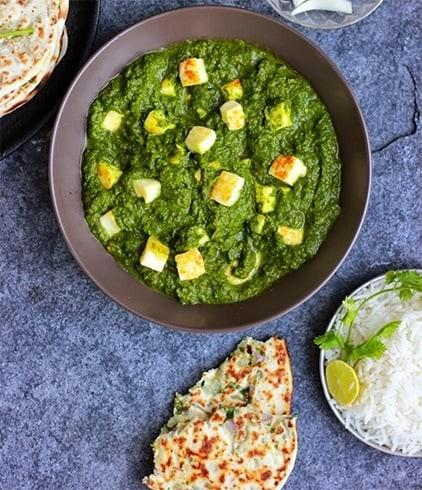PalakPaneer: (81, 35, 342, 303)
